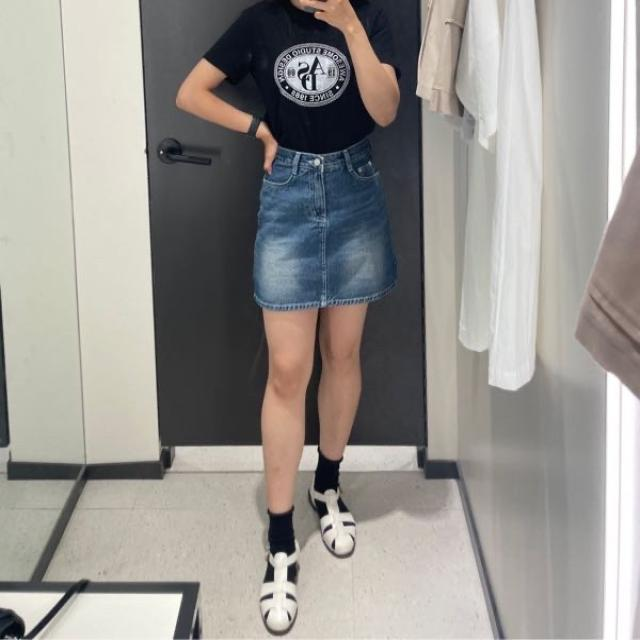shortsleeve: (202, 0, 397, 149)
skirt: (255, 141, 398, 314)
